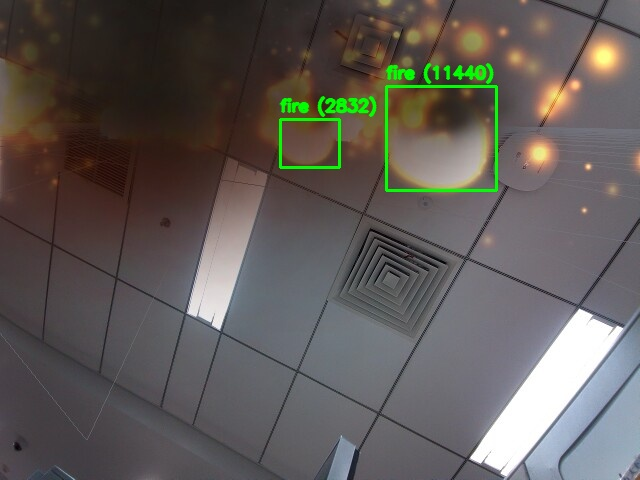fire: (386, 86, 496, 190), (280, 119, 339, 167)
